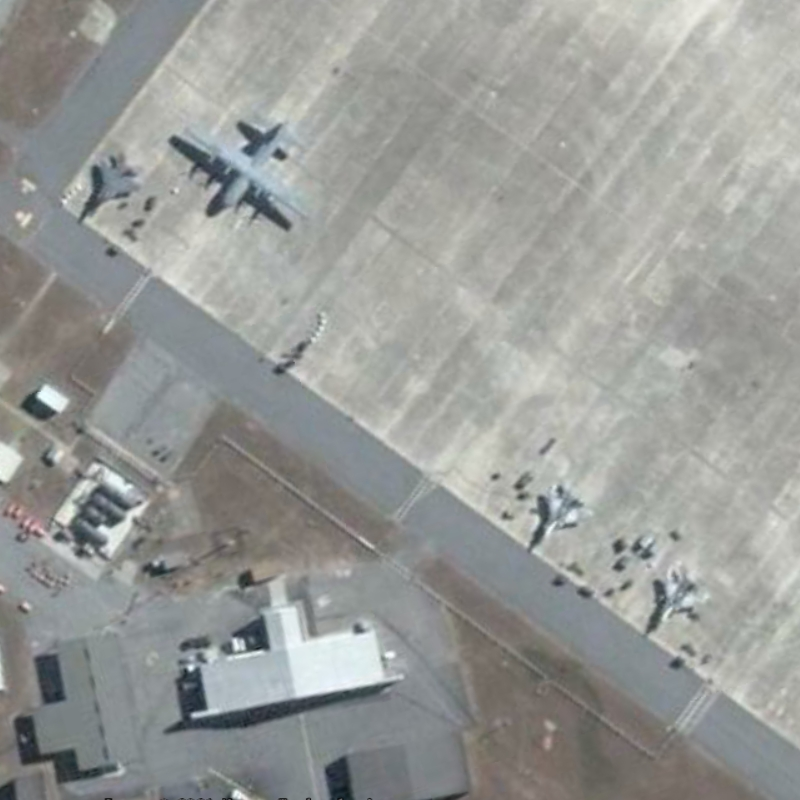A13: (76, 151, 143, 227), (525, 485, 594, 556), (644, 567, 705, 638)
A2: (169, 116, 302, 231)
